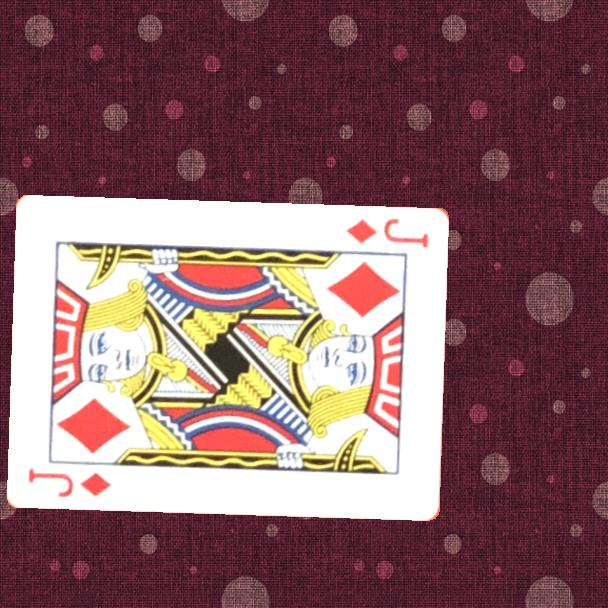d11: (25, 463, 115, 500), (343, 214, 432, 250)
